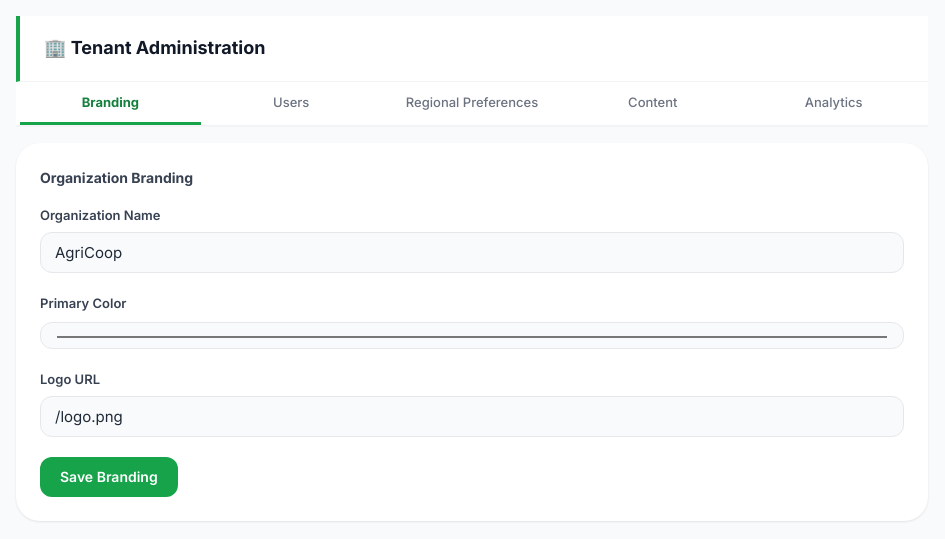
Test: TenantAdminPage › displays usage analytics with stats
Click the button with test id "tab-analytics" at (834, 103), box [743,82,924,125]
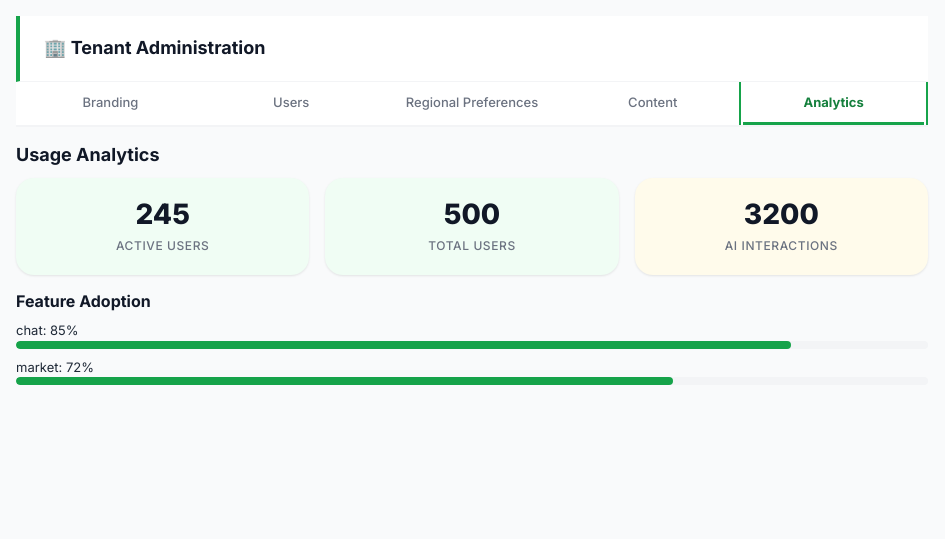
Now the element with test id "analytics-section" is shown, box [16,143,928,385]
Now the element with test id "stat-active-users" shows "245", box [135,197,190,231]
Now the element with test id "stat-total-users" shows "500", box [444,197,500,231]
